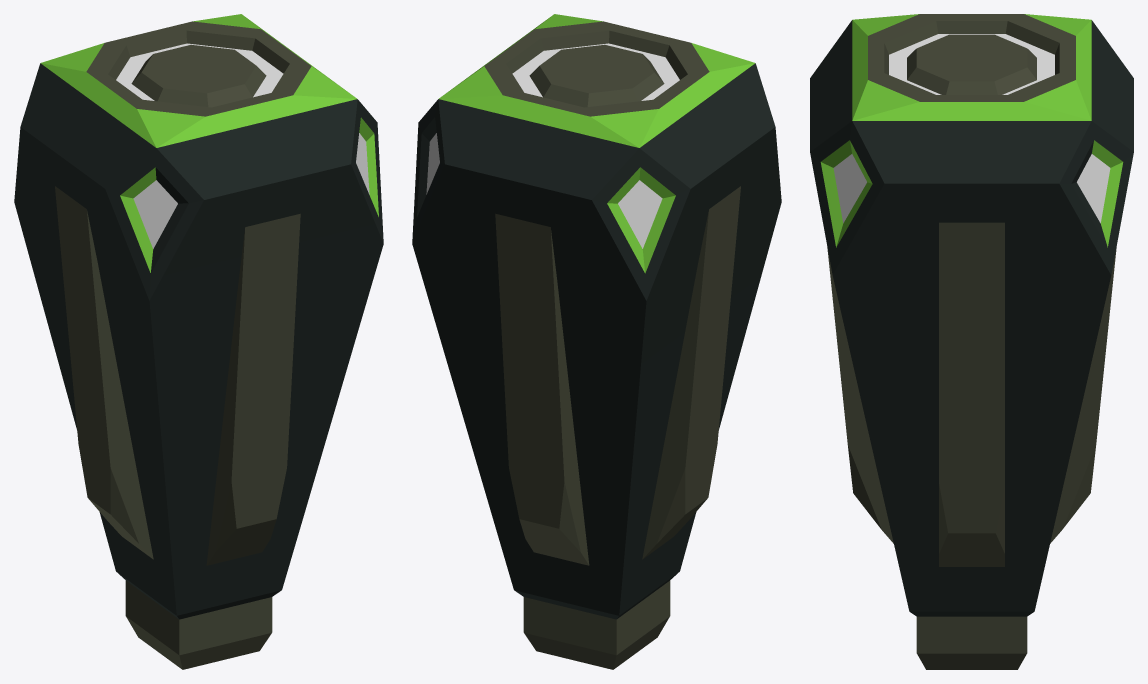
Rendered from artifact1.gltf.
3 views of the same model, side by side, from view 1: azimuth 30°, elevation 25°; view 2: azimuth 150°, elevation 25°; view 3: azimuth 270°, elevation 25° (orthographic). The views are drawn at different scales.
Visible parts, largest first — view 1: Solid; view 2: Solid; view 3: Solid.
Part boxes in pixels (box(x1,y1,x2,y2)): Solid: box(14, 14, 383, 669); Solid: box(412, 14, 781, 669); Solid: box(810, 14, 1133, 669).
Size of the model in its own units: 1.54 by 3.11 by 1.54.
Materials: 2 (1 with a texture image).
